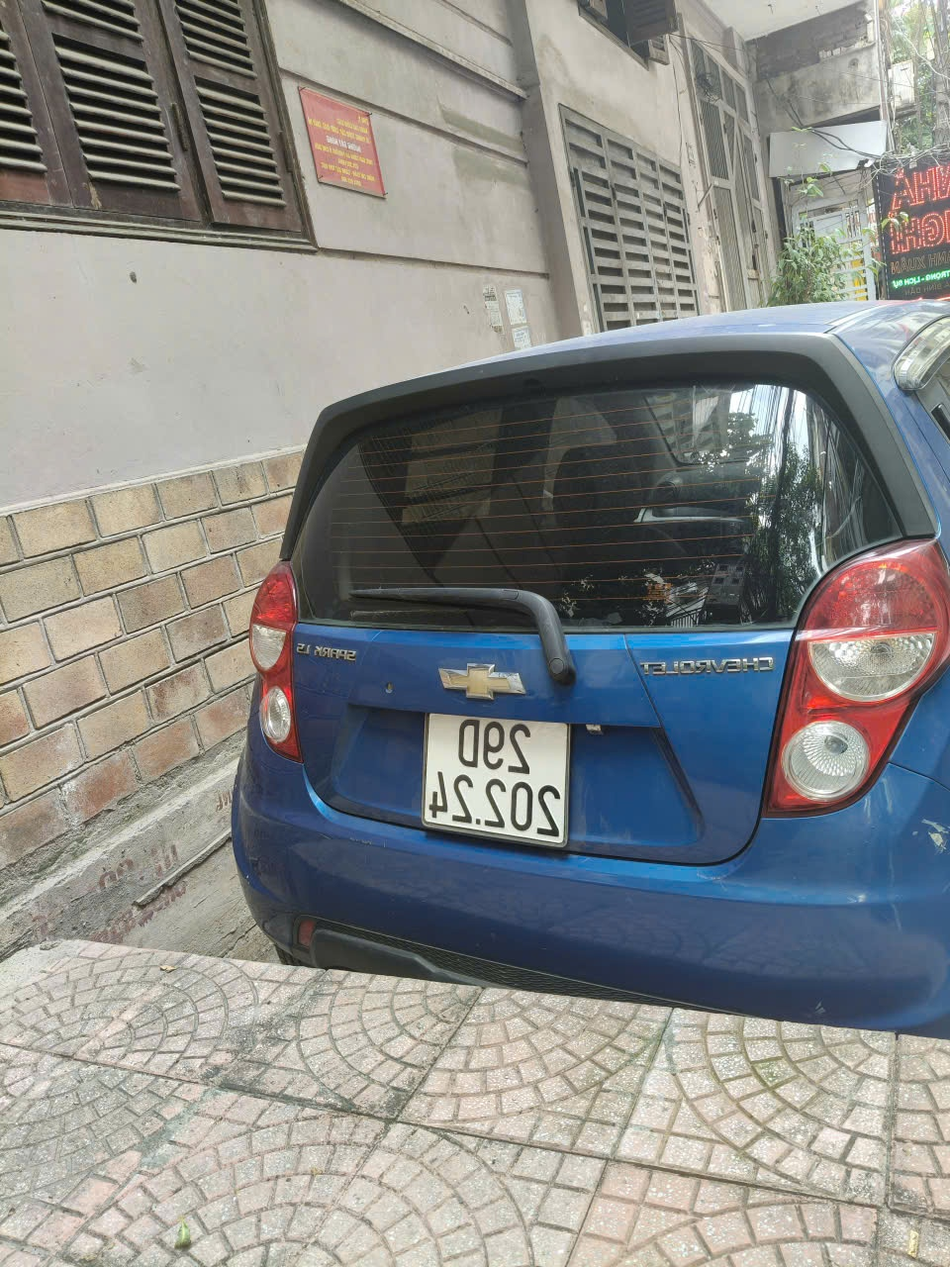plate: (421, 826, 575, 861)
